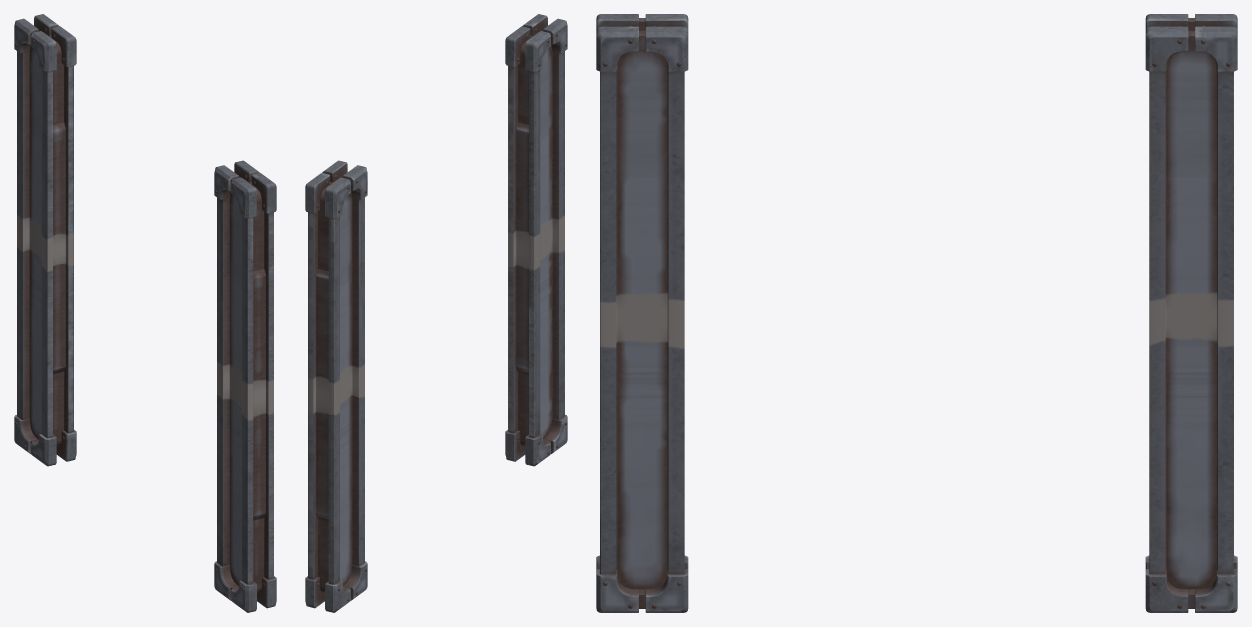
The model's file is BP_DoubleDoor_Greenhouse_C.glb.
The picture shows the model from 3 angles, left to right: view 1: azimuth 30°, elevation 25°; view 2: azimuth 150°, elevation 25°; view 3: azimuth 270°, elevation 25°; orthographic projection. The views are drawn at different scales.
Visible parts, largest first — view 1: SM_Greenhouse_WallDoorwayDouble; view 2: SM_Greenhouse_WallDoorwayDouble; view 3: SM_Greenhouse_WallDoorwayDouble.
Boxes of the visible parts, x1,y1,x2,y2 form: SM_Greenhouse_WallDoorwayDouble: [14, 14, 276, 612]; SM_Greenhouse_WallDoorwayDouble: [305, 14, 567, 612]; SM_Greenhouse_WallDoorwayDouble: [596, 14, 1237, 612].
Bounding box in the file's own units: 0.2527 × 3.04 × 3.03.
Materials: 1 (1 with a texture image).
